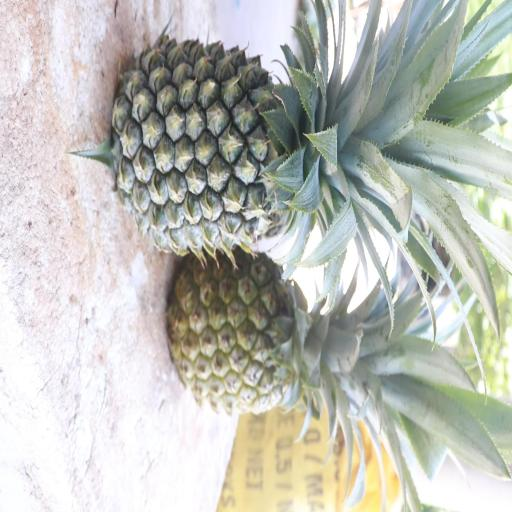------------------------------: (165, 236, 396, 422)
